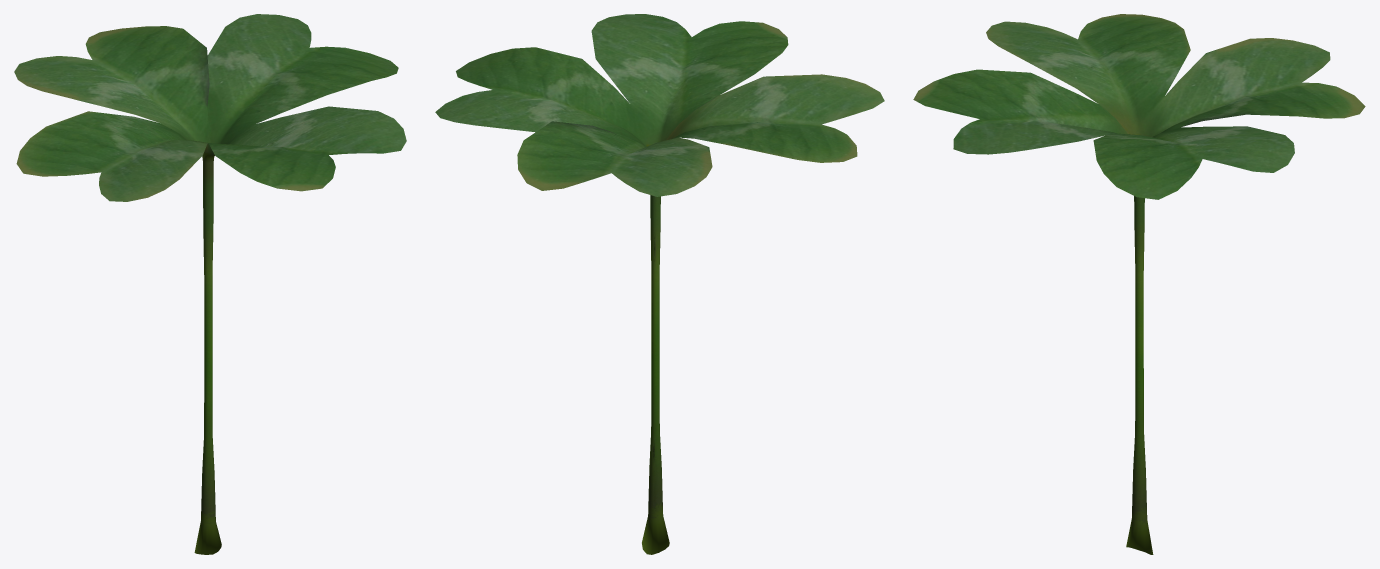
File: A_TrefleSeul.fbx
3 views of the same model, side by side, from view 1: azimuth 30°, elevation 25°; view 2: azimuth 150°, elevation 25°; view 3: azimuth 270°, elevation 25° (orthographic). The views are drawn at different scales.
Visible parts, largest first — view 1: A_TrefleSeul_LD; view 2: A_TrefleSeul_LD; view 3: A_TrefleSeul_LD.
Boxes of the visible parts, box(x1,y1,x2,y2) form: A_TrefleSeul_LD: box(14, 14, 406, 554); A_TrefleSeul_LD: box(435, 14, 884, 554); A_TrefleSeul_LD: box(913, 14, 1365, 554).
Bounding box in the file's own units: 9.75 × 11.05 × 9.74.
1 material, 1 textured.
